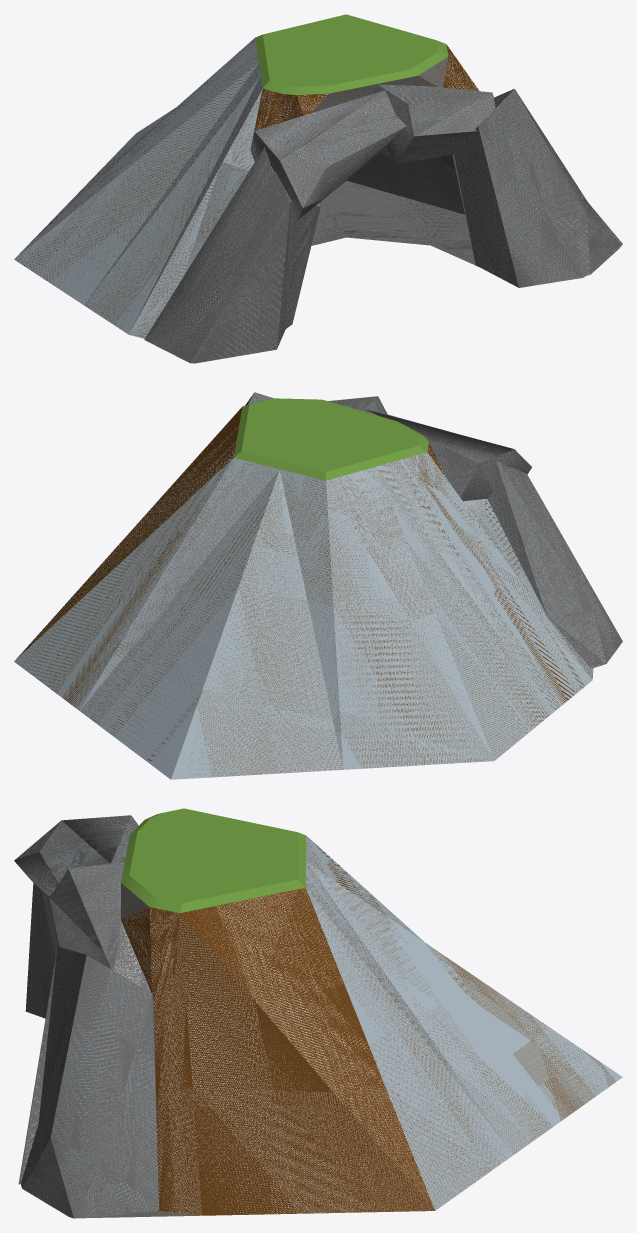
Rendered from Cave_Grass_01.fbx.
3 renders of one model, top to bottom at view 1: azimuth 30°, elevation 25°; view 2: azimuth 150°, elevation 25°; view 3: azimuth 270°, elevation 25°, orthographic. The views are drawn at different scales.
Parts seen in each view (by area): view 1: Model; view 2: Model; view 3: Model.
Part boxes in pixels (box(x1,y1,x2,y2)): Model: box(14, 14, 622, 363); Model: box(14, 392, 622, 779); Model: box(14, 808, 622, 1218).
Size of the model in its own units: 1284 by 532 by 1235.
